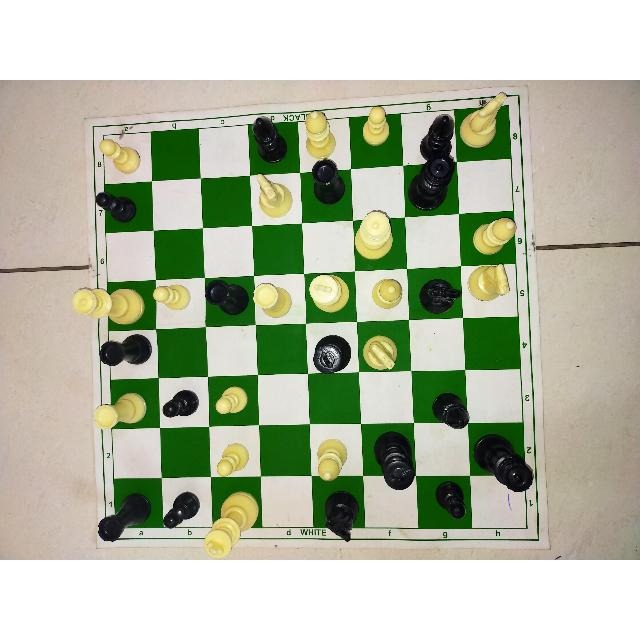black-bishop: (241, 118, 298, 172), (410, 111, 460, 157), (426, 385, 472, 434)
black-king: (366, 430, 418, 492), (309, 334, 355, 376)
black-knight: (316, 486, 363, 543), (415, 273, 463, 314)
black-pawn: (96, 190, 153, 228), (157, 488, 203, 532), (426, 480, 469, 522), (160, 387, 201, 425)
black-queen: (471, 433, 534, 493), (407, 155, 459, 212)
black-rook: (95, 488, 154, 543), (304, 158, 353, 206), (98, 332, 156, 371), (205, 279, 251, 319)
white-bishop: (299, 110, 351, 167), (468, 215, 517, 255), (313, 436, 351, 484), (368, 276, 404, 310)
white-king: (204, 488, 260, 559), (305, 274, 355, 316)
white-knight: (461, 92, 512, 143), (250, 173, 301, 220), (466, 262, 514, 303), (362, 330, 404, 371)
white-pawn: (101, 131, 155, 189), (211, 377, 259, 424), (356, 107, 403, 155), (155, 278, 199, 323), (211, 440, 255, 480)
white-queen: (71, 285, 149, 325), (354, 210, 398, 260)
white-rook: (94, 386, 152, 435), (252, 281, 292, 319)
